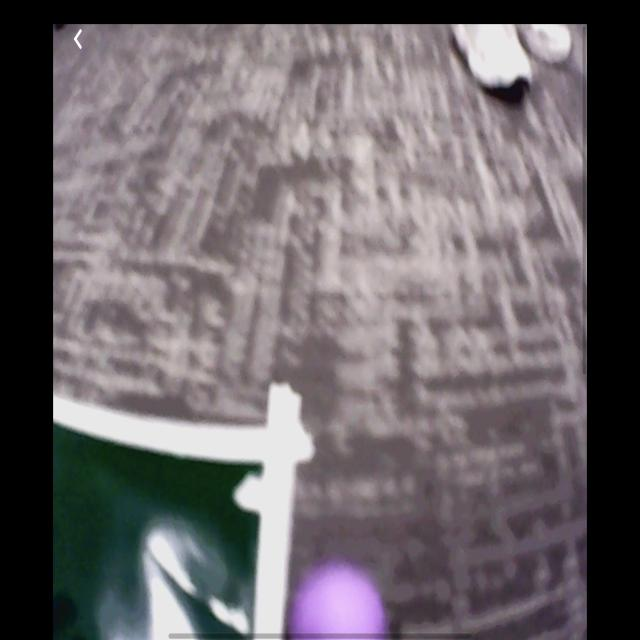ball: (284, 556, 390, 638)
